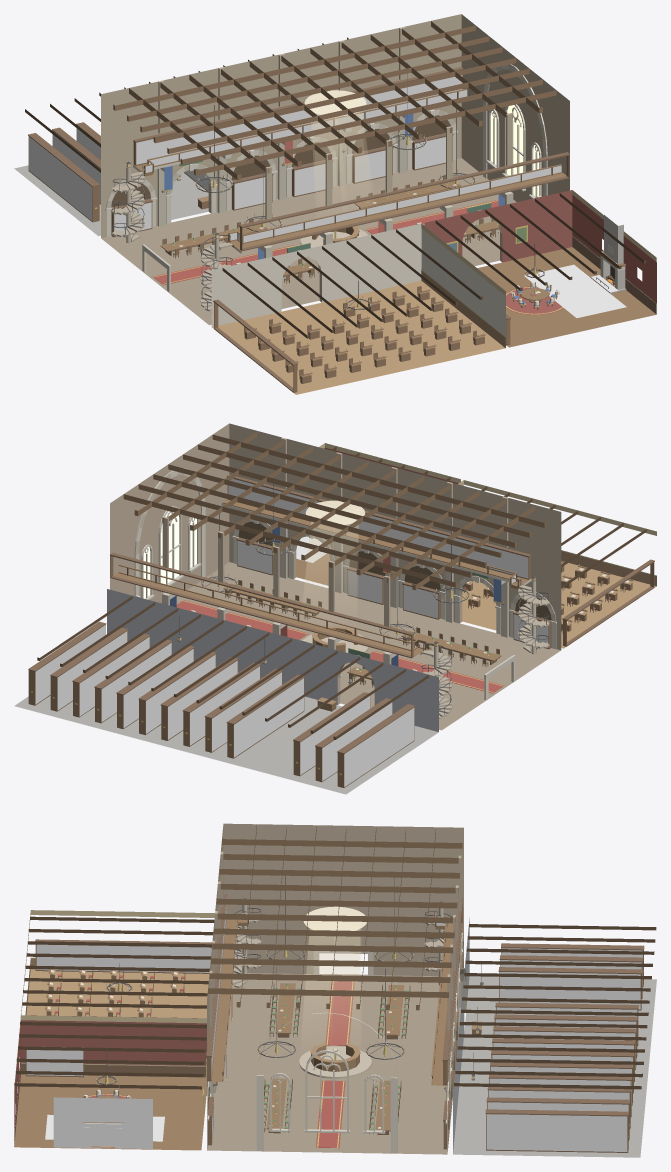
The model's file is interior_c02.glb.
The picture shows the model from 3 angles, top to bottom: view 1: azimuth 30°, elevation 25°; view 2: azimuth 150°, elevation 25°; view 3: azimuth 270°, elevation 25°; orthographic projection. The views are drawn at different scales.
Visible parts, largest first — view 1: Interior_C02_mesh, Interior_C02_scriptorium, Interior_C02_meeting, Interior_C02_books, Interior_C02_archive, Interior_C02_balusters, Interior_C02_lightshaft, Interior_C02_FireplaceGlow, Interior_C02_glass; view 2: Interior_C02_mesh, Interior_C02_archive, Interior_C02_books, Interior_C02_scriptorium, Interior_C02_lightshaft, Interior_C02_meeting, Interior_C02_glass; view 3: Interior_C02_mesh, Interior_C02_archive, Interior_C02_books, Interior_C02_meeting, Interior_C02_scriptorium, Interior_C02_FireplaceGlow, Interior_C02_lightshaft.
Boxes of the visible parts, left/top/right/bottom form: Interior_C02_mesh: left=101, top=14, right=569, bottom=325; Interior_C02_scriptorium: left=211, top=223, right=505, bottom=394; Interior_C02_meeting: left=424, top=190, right=656, bottom=347; Interior_C02_books: left=29, top=75, right=462, bottom=231; Interior_C02_archive: left=14, top=37, right=348, bottom=236; Interior_C02_balusters: left=145, top=90, right=561, bottom=242; Interior_C02_lightshaft: left=304, top=90, right=371, bottom=211; Interior_C02_FireplaceGlow: left=524, top=264, right=626, bottom=317; Interior_C02_glass: left=491, top=105, right=539, bottom=196; Interior_C02_mesh: left=110, top=423, right=561, bottom=730; Interior_C02_archive: left=14, top=589, right=438, bottom=794; Interior_C02_books: left=35, top=479, right=548, bottom=786; Interior_C02_scriptorium: left=458, top=480, right=656, bottom=648; Interior_C02_lightshaft: left=303, top=500, right=365, bottom=606; Interior_C02_meeting: left=296, top=443, right=460, bottom=585; Interior_C02_glass: left=143, top=511, right=196, bottom=598; Interior_C02_mesh: left=206, top=823, right=466, bottom=1154; Interior_C02_archive: left=453, top=918, right=656, bottom=1157; Interior_C02_books: left=26, top=905, right=642, bottom=1151; Interior_C02_meeting: left=14, top=1015, right=206, bottom=1150; Interior_C02_scriptorium: left=21, top=910, right=214, bottom=1018; Interior_C02_FireplaceGlow: left=45, top=1097, right=164, bottom=1148; Interior_C02_lightshaft: left=303, top=906, right=366, bottom=1038.
Bounding box in the file's own units: 49.35 × 18.17 × 71.01.
